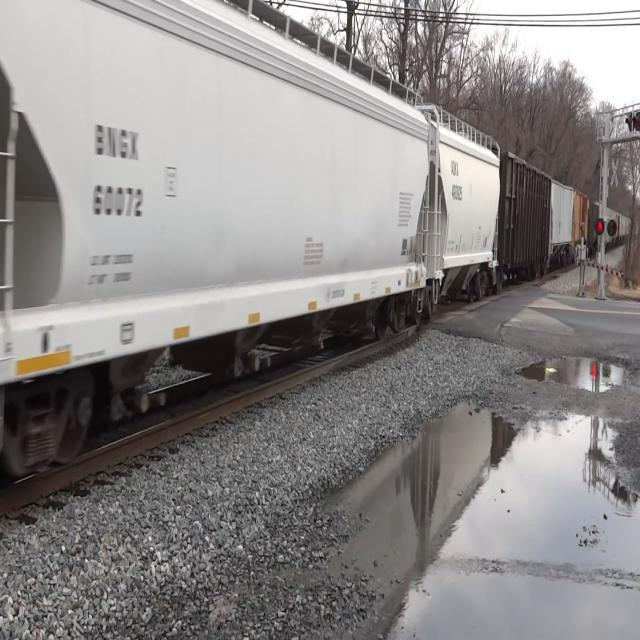hopper: (2, 3, 434, 466), (431, 97, 502, 312)
